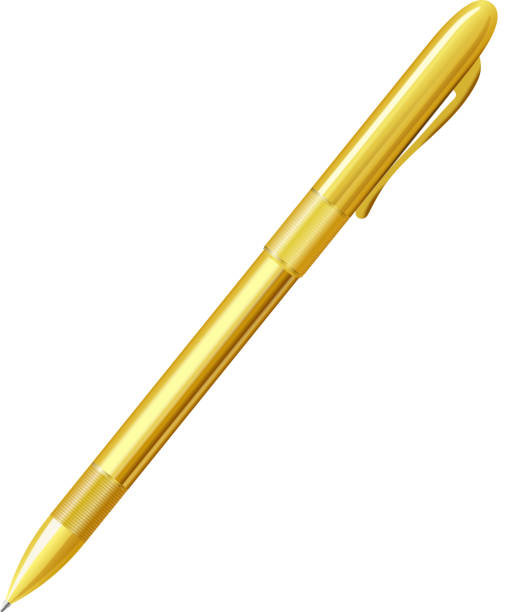pen: (2, 1, 506, 612)
